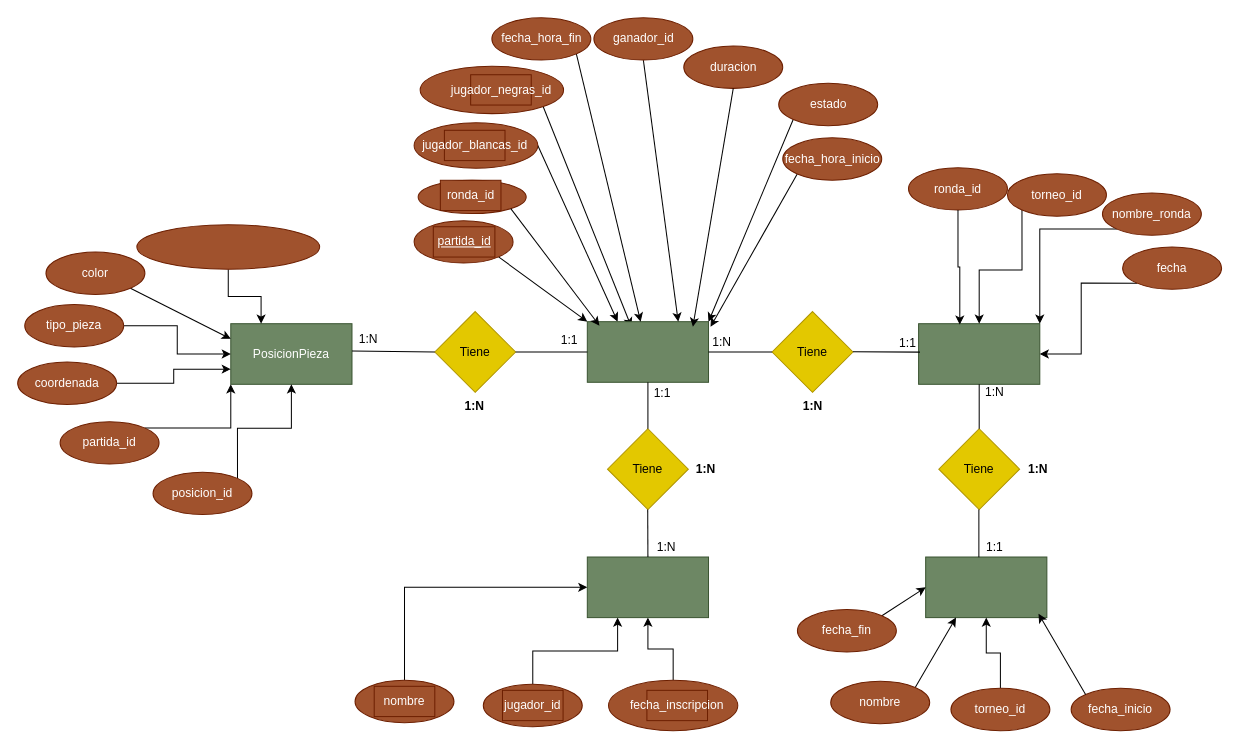
This 1239x748 diagram has some shape labels left out. Each missing label, with the box of its shape:
fecha_hora_guardado: (136, 224, 320, 269)
Jugador: (586, 556, 709, 618)
Partida: (586, 321, 709, 382)
Ronda: (918, 323, 1040, 384)
Torneo: (925, 556, 1047, 618)
